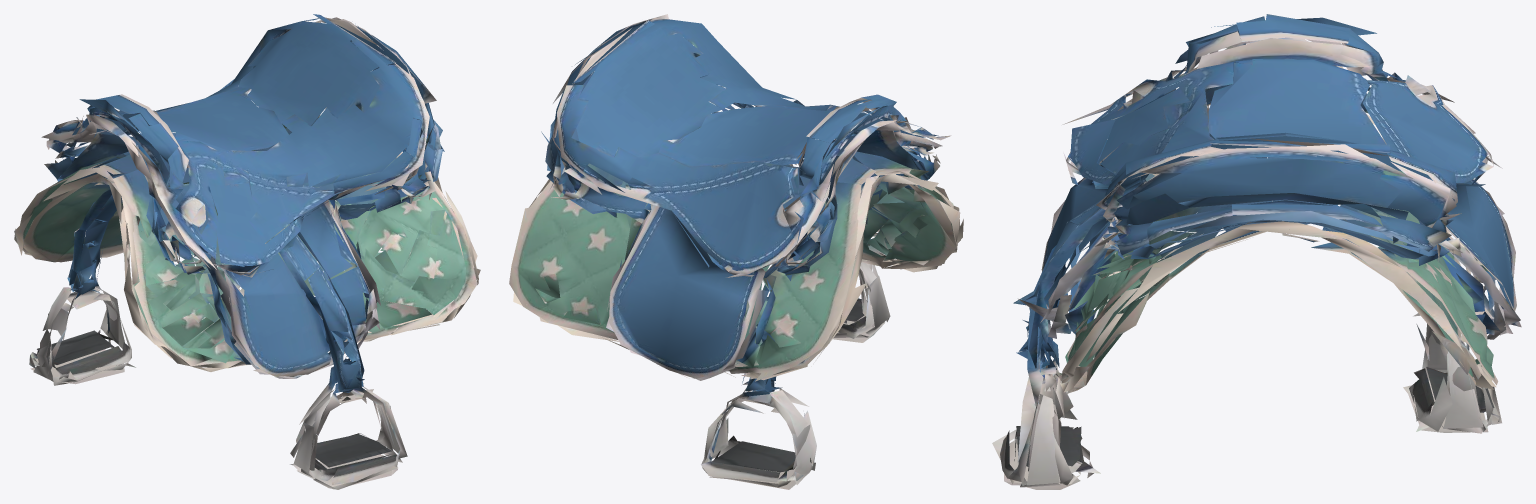
The picture shows the model from 3 angles, left to right: view 1: azimuth 30°, elevation 25°; view 2: azimuth 150°, elevation 25°; view 3: azimuth 270°, elevation 25°; orthographic projection. The views are drawn at different scales.
Visible parts, largest first — view 1: saddle-blue; view 2: saddle-blue; view 3: saddle-blue.
Boxes of the visible parts, x1,y1,x2,y2 form: saddle-blue: (14, 14, 480, 489); saddle-blue: (509, 14, 963, 489); saddle-blue: (992, 14, 1521, 489).
Size of the model in its own units: 0.286 by 0.281 by 0.3388.
Materials: 1 (1 with a texture image).
